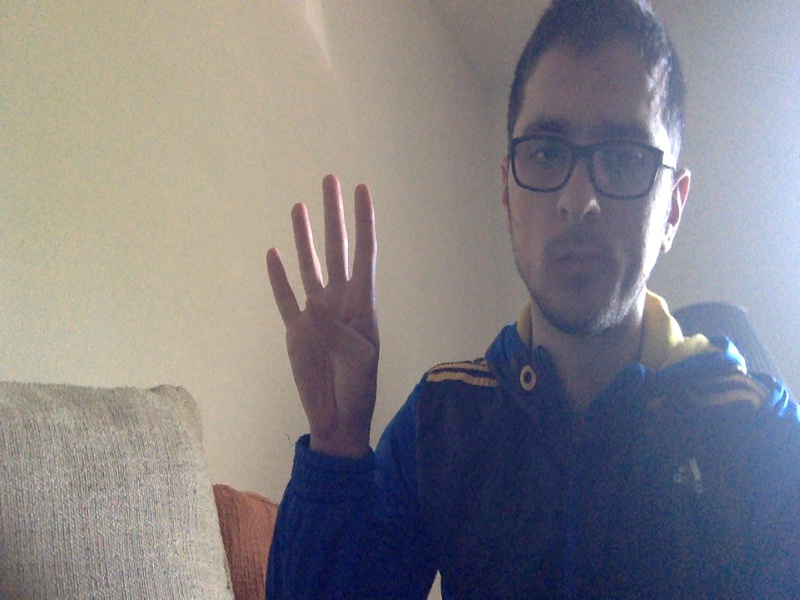4-hand: (267, 174, 383, 437)
